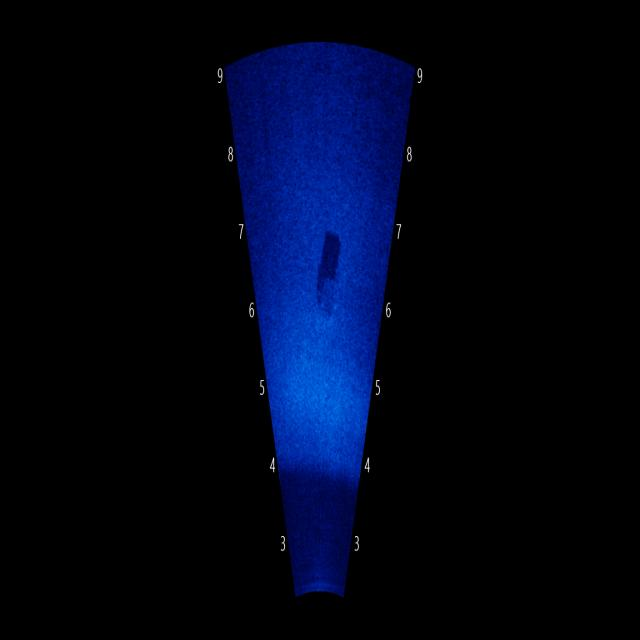square: (318, 260, 346, 338)
